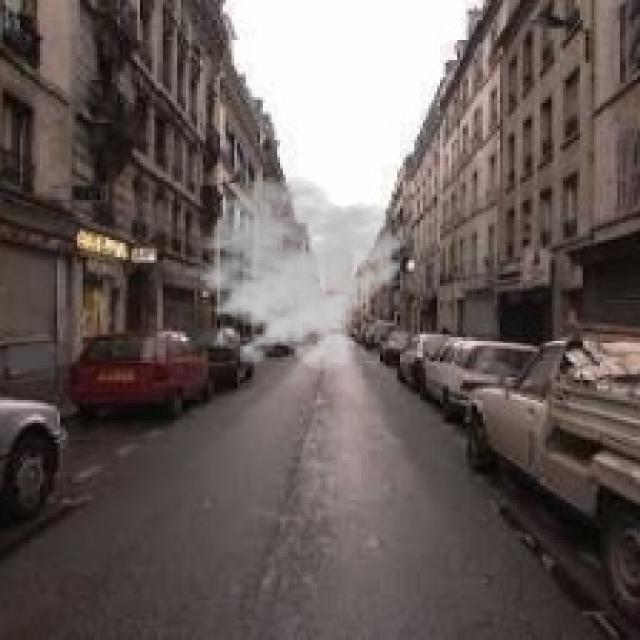smoke: (172, 174, 412, 374)
